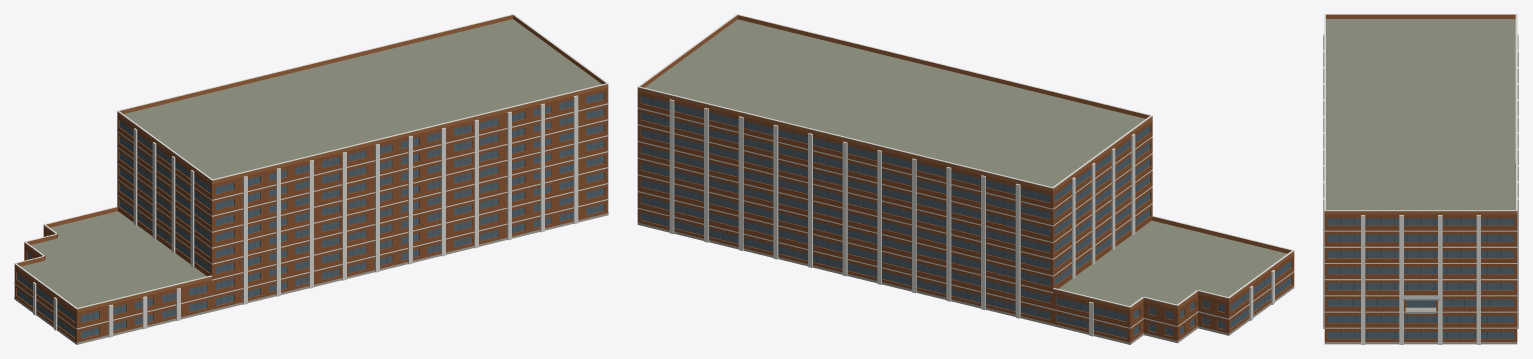
The picture shows the model from 3 angles, left to right: view 1: azimuth 30°, elevation 25°; view 2: azimuth 150°, elevation 25°; view 3: azimuth 270°, elevation 25°; orthographic projection. The views are drawn at different scales.
Visible parts, largest first — view 1: lifeEnv__roof, lifeEnv__wall, lifeEnv__glass, lifeEnv__trim, lifeEnv__parapet, lifeEnv__frame, lifeEnv__base; view 2: lifeEnv__roof, lifeEnv__wall, lifeEnv__glass, lifeEnv__trim, lifeEnv__parapet, lifeEnv__frame, lifeEnv__base; view 3: lifeEnv__roof, lifeEnv__wall, lifeEnv__glass, lifeEnv__trim, lifeEnv__parapet, lifeEnv__frame, lifeEnv__base, lifeEnv__canopy.
Boxes of the visible parts, box(x1,y1,x2,y2) form: lifeEnv__roof: box(21, 19, 601, 307); lifeEnv__wall: box(14, 88, 608, 344); lifeEnv__glass: box(17, 92, 603, 338); lifeEnv__trim: box(14, 14, 608, 337); lifeEnv__parapet: box(14, 15, 608, 312); lifeEnv__frame: box(29, 94, 597, 336); lifeEnv__base: box(14, 213, 608, 344); lifeEnv__roof: box(644, 19, 1287, 306); lifeEnv__wall: box(637, 91, 1294, 344); lifeEnv__glass: box(641, 95, 1291, 338); lifeEnv__trim: box(637, 14, 1294, 336); lifeEnv__parapet: box(637, 15, 1294, 311); lifeEnv__frame: box(652, 98, 1278, 335); lifeEnv__base: box(637, 222, 1294, 344); lifeEnv__roof: box(1326, 19, 1515, 209); lifeEnv__wall: box(1324, 214, 1517, 341); lifeEnv__glass: box(1327, 218, 1514, 338); lifeEnv__trim: box(1323, 14, 1518, 344); lifeEnv__parapet: box(1324, 14, 1517, 214); lifeEnv__frame: box(1340, 218, 1501, 338); lifeEnv__base: box(1324, 307, 1517, 344); lifeEnv__canopy: box(1402, 296, 1439, 300).
Bounding box in the file's own units: 124 × 28.92 × 38.36.
9 materials, 1 textured.
